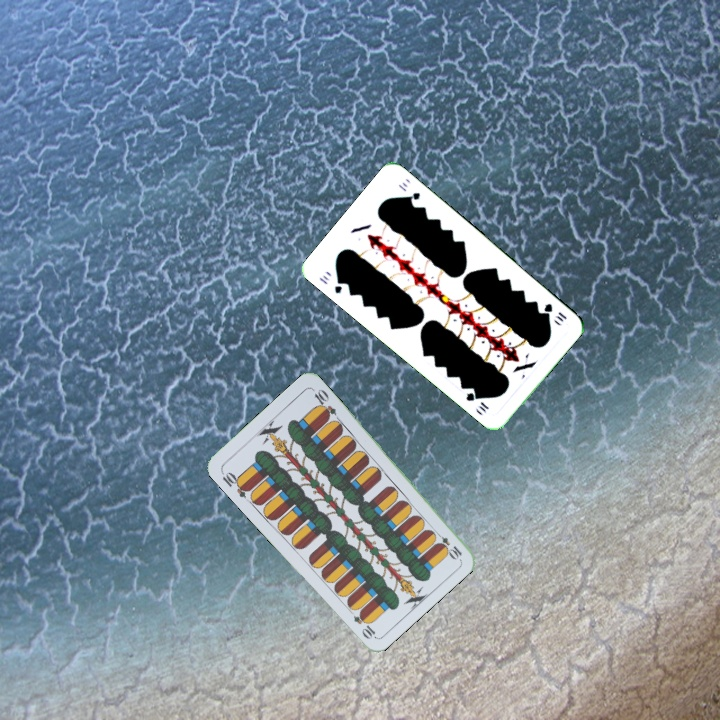E10: (430, 527, 464, 562), (217, 467, 253, 500)
G10: (315, 271, 347, 296), (540, 299, 569, 324)
